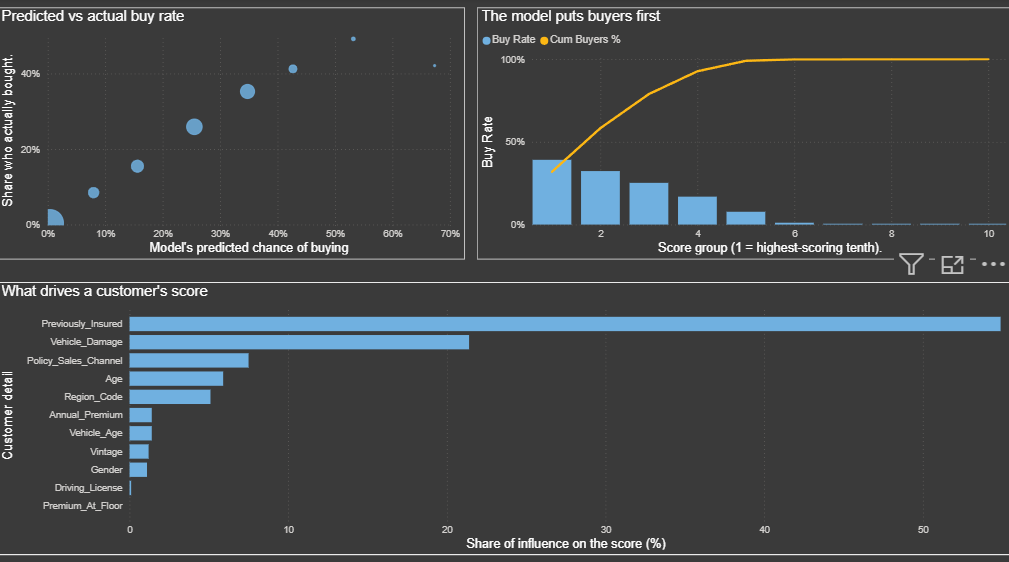

The dashboard page shown, as its layout file describes it:
{"tool":"powerbi","page":{"name":"Model Quality","canvas":[1280,720],"ordinal":1},"visuals":[{"type":"lineClusteredColumnComboChart","title":"The model puts buyers first","fields":{"Category":["customers.Decile"],"Y":["customers.Buy Rate"],"Y2":["customers.Cum Buyers %"]},"box":[604.7,13.2,674.7,317.5],"z":0},{"type":"scatterChart","title":"Predicted vs actual buy rate","fields":{"X":["customers.Avg Score"],"Y":["customers.Buy Rate"],"Category":["customers.Score_Band"],"Size":["customers.Total Customers"]},"box":[0,13.2,589.6,317.5],"z":1000},{"type":"clusteredBarChart","title":"What drives a customer''s score","fields":{"Category":["feature_importance.Feature"],"Y":["Sum(feature_importance.Influence_Pct)"]},"box":[0,359.1,1279.4,343.9],"z":2000}]}

Visuals, with their boxes in screenshot pixels (x1, y1, x2, y2), scaled from the page's 1280x720 canvas onto the 1009x562 screenshot:
"The model puts buyers first" lineClusteredColumnComboChart: BBox(477, 10, 1008, 258)
"Predicted vs actual buy rate" scatterChart: BBox(0, 10, 465, 258)
"What drives a customer''s score" clusteredBarChart: BBox(0, 280, 1008, 549)
